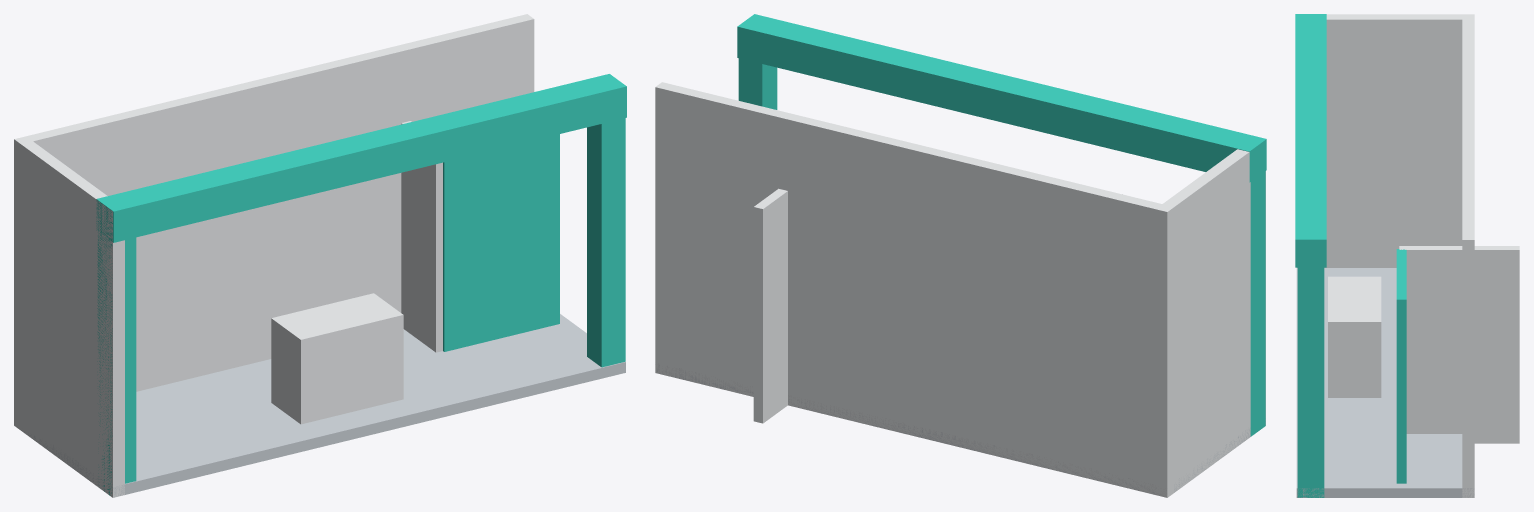
The picture shows the model from 3 angles, left to right: view 1: azimuth 30°, elevation 25°; view 2: azimuth 150°, elevation 25°; view 3: azimuth 270°, elevation 25°; orthographic projection. The views are drawn at different scales.
Parts seen in each view (by area): view 1: Exhibition Booth Concept; view 2: Exhibition Booth Concept; view 3: Exhibition Booth Concept.
Boxes of the visible parts, x1=… form: Exhibition Booth Concept: x1=14, y1=14, x2=626, y2=497; Exhibition Booth Concept: x1=655, y1=14, x2=1266, y2=497; Exhibition Booth Concept: x1=1295, y1=14, x2=1519, y2=497.
Bounding box in the file's own units: 6 × 3.2 × 2.52.
